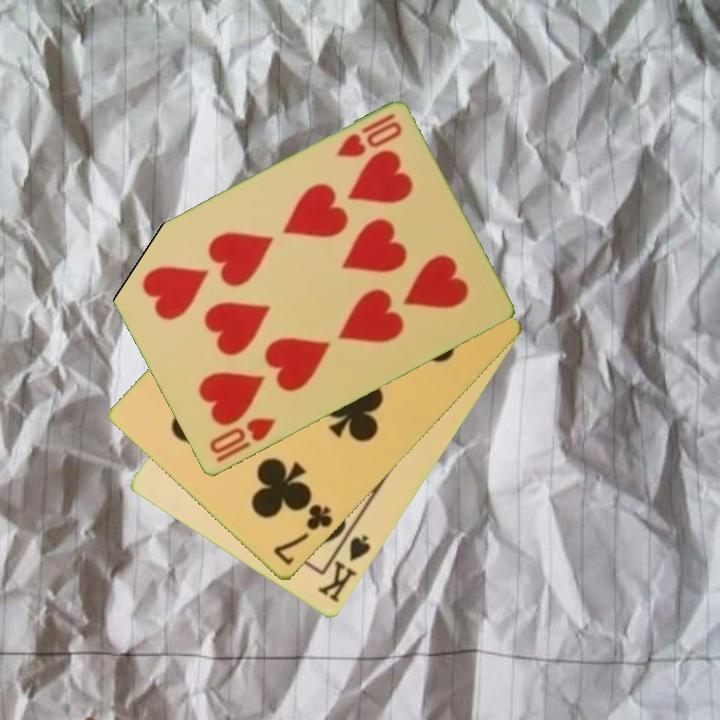10h: (205, 414, 279, 466), (332, 110, 405, 161)
7c: (270, 501, 336, 569)
Ks: (314, 524, 374, 606)
